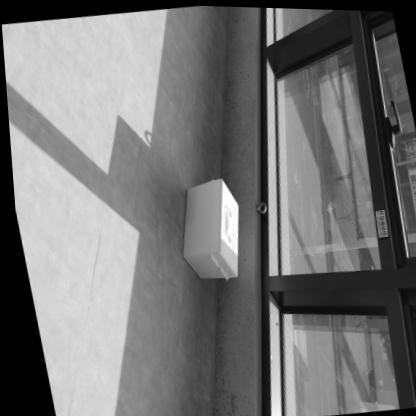DDL: (164, 175, 246, 281)
